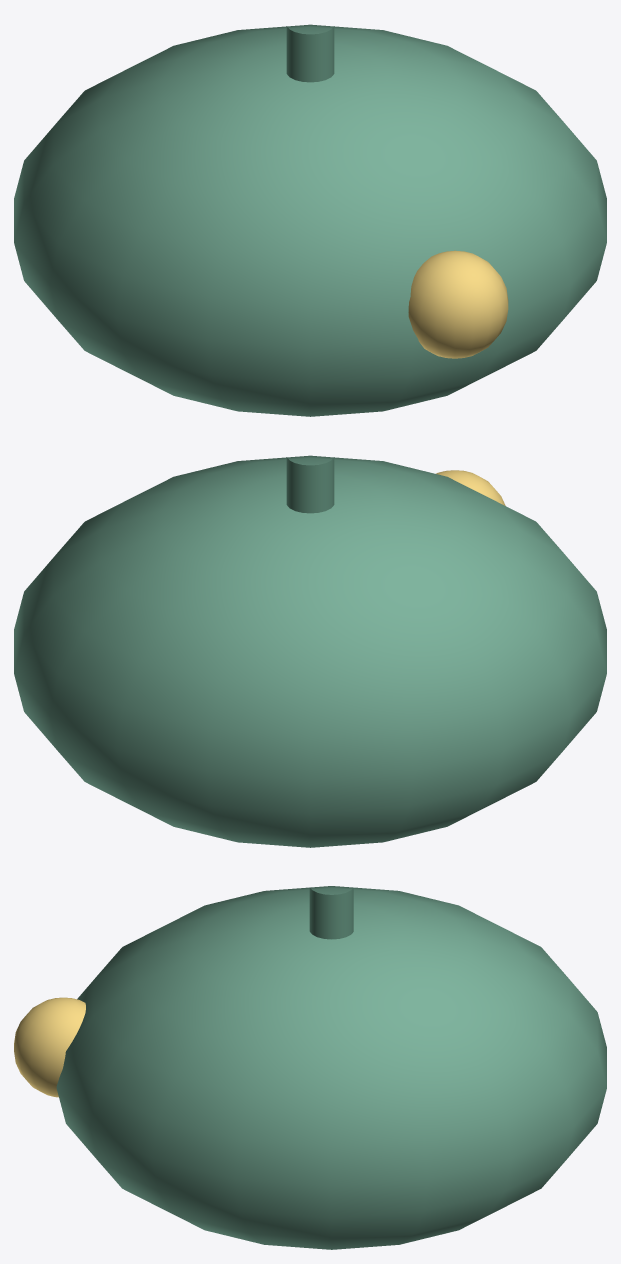
File: quest-beret.glb
3 renders of one model, top to bottom at view 1: azimuth 30°, elevation 25°; view 2: azimuth 150°, elevation 25°; view 3: azimuth 270°, elevation 25°, orthographic. The views are drawn at different scales.
Parts seen in each view (by area): view 1: quest-beret; view 2: quest-beret; view 3: quest-beret.
Part boxes in pixels (x1,y1,x2,y2): quest-beret: [14, 24, 606, 416]; quest-beret: [14, 455, 606, 847]; quest-beret: [14, 886, 606, 1249].
Size of the model in its own units: 0.5 by 0.3175 by 0.5305.
